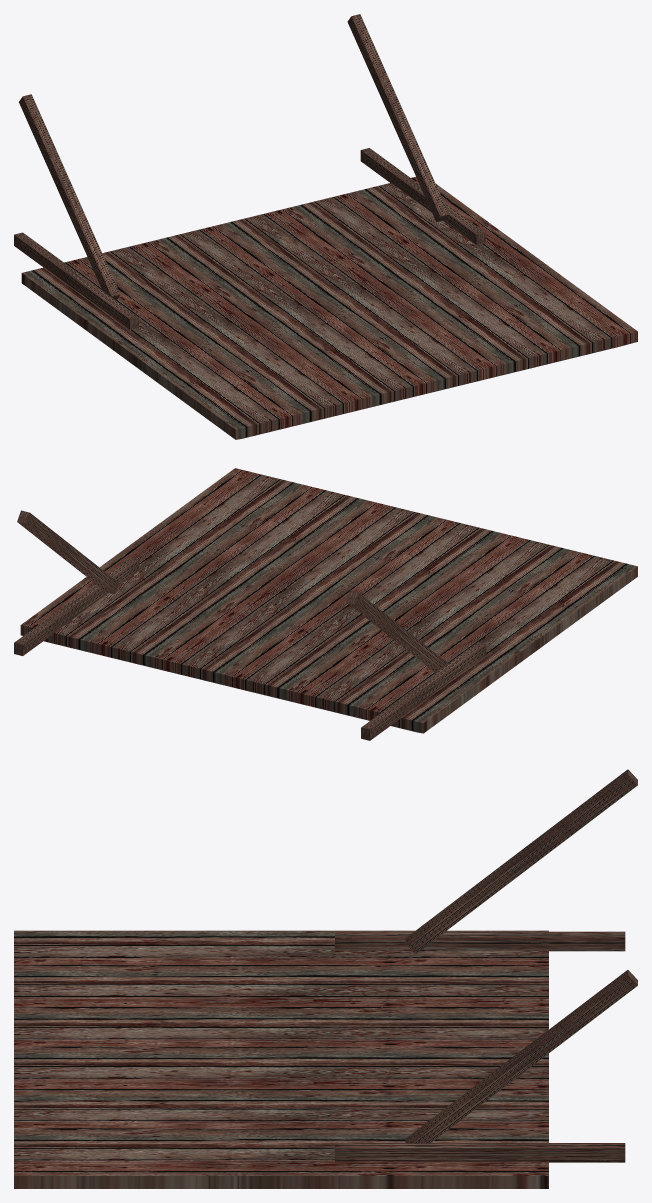
Rendered from urbanwood02bilboardb_wtf.obj.
3 renders of one model, top to bottom at view 1: azimuth 30°, elevation 25°; view 2: azimuth 150°, elevation 25°; view 3: azimuth 270°, elevation 25°, orthographic. The views are drawn at different scales.
Parts seen in each view (by area): view 1: group4; view 2: group4; view 3: group4.
Part boxes in pixels (x1=…): group4: x1=14, y1=14, x2=637, y2=439; group4: x1=14, y1=468, x2=637, y2=740; group4: x1=14, y1=769, x2=637, y2=1188.
Bounding box in the file's own units: 614 × 235 × 660.
